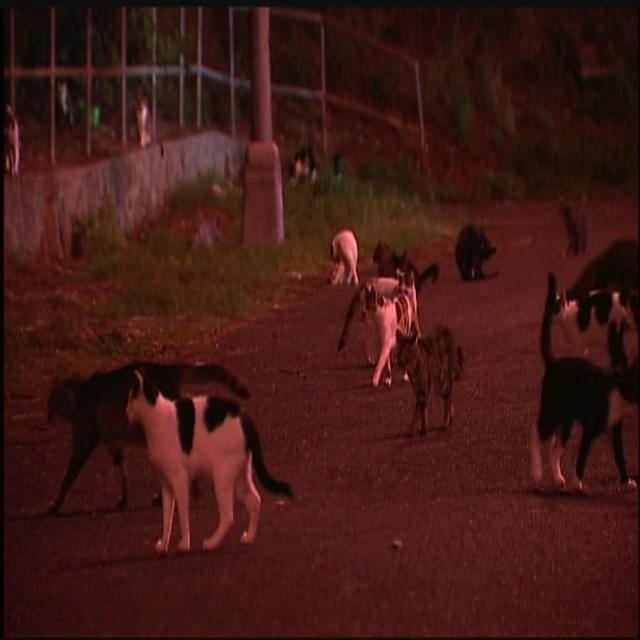Cat: (31, 348, 254, 527), (124, 363, 293, 559), (520, 261, 640, 515), (397, 325, 471, 436), (544, 282, 632, 370), (130, 84, 175, 172), (450, 218, 497, 294), (2, 95, 33, 197), (556, 190, 606, 250), (326, 223, 369, 292), (55, 67, 87, 153), (286, 142, 325, 210), (187, 214, 233, 258)
